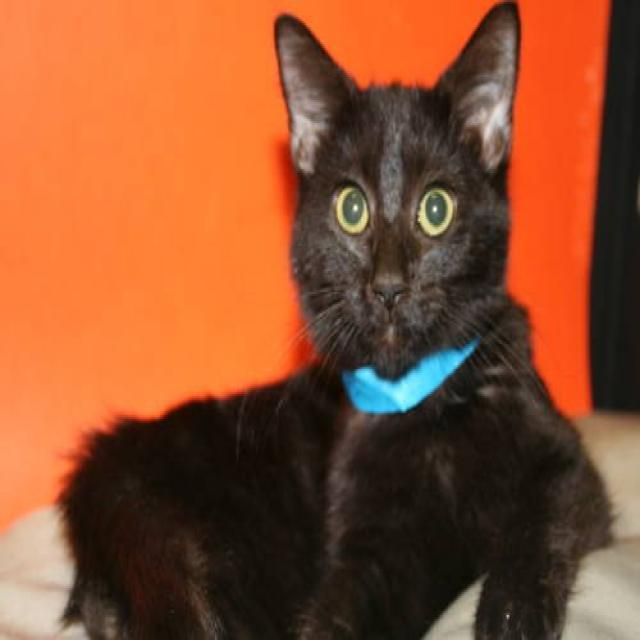Bombay: (273, 0, 519, 379)
